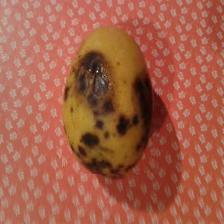Mango Semirotten: (63, 24, 160, 174)
